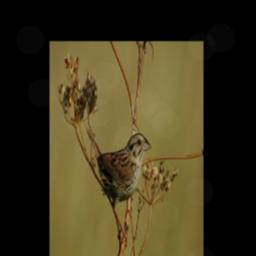Sparrow: (83, 120, 152, 248)
